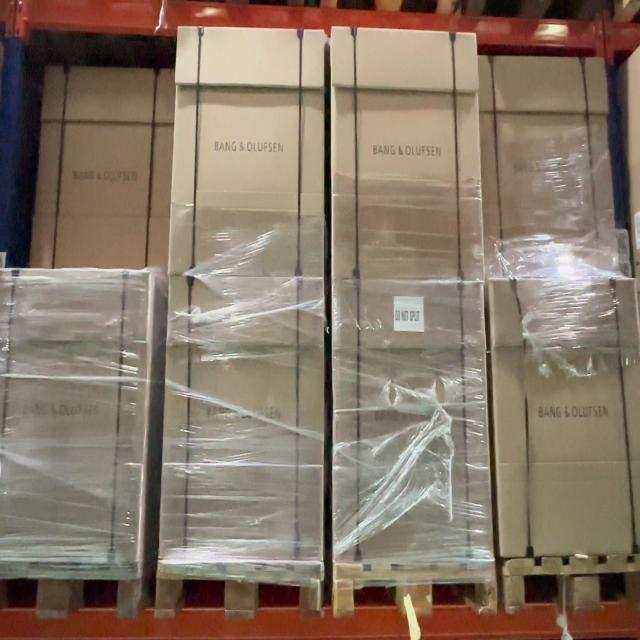box: (171, 281, 322, 556), (334, 286, 483, 564), (334, 31, 480, 280), (177, 29, 324, 271)
